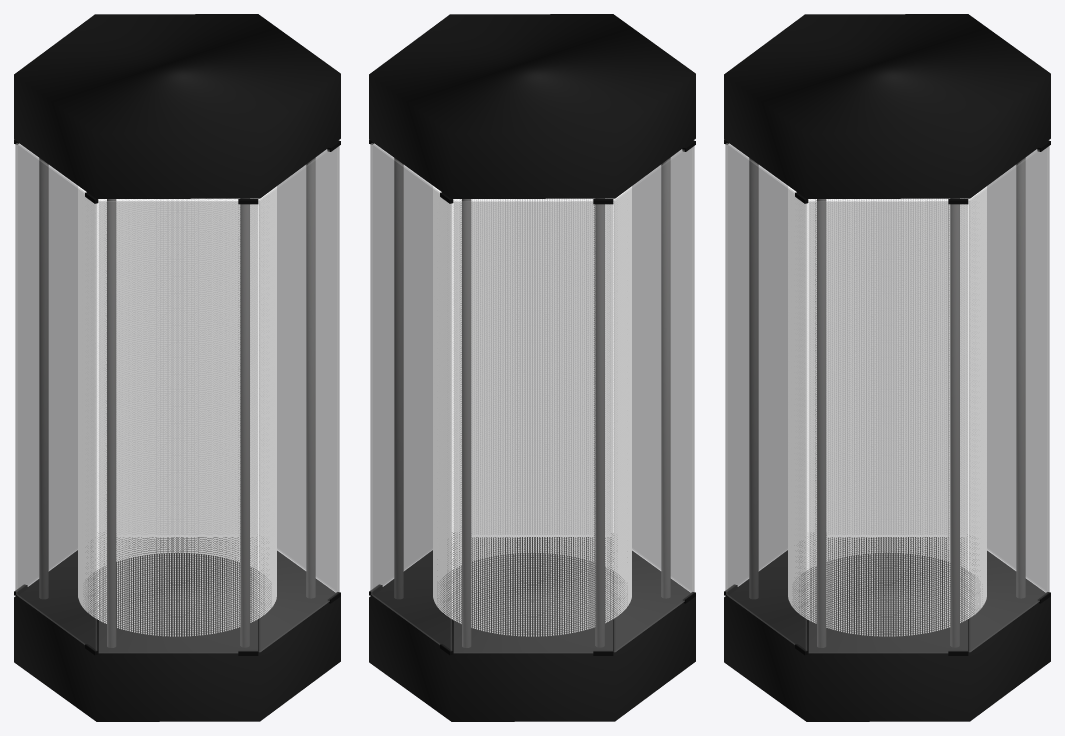
The model's file is hexora-web.glb.
3 views of the same model, side by side, from view 1: azimuth 30°, elevation 25°; view 2: azimuth 150°, elevation 25°; view 3: azimuth 270°, elevation 25° (orthographic).
Parts seen in each view (by area): view 1: BézierCurve, LED_WALL02.011, HEXAGONAL_SWING - Part 1.005, HEXAGONAL_SWING - Part 1.006, LED_WALL02.006, LED_WALL02.010, LED_WALL02.009, LED_WALL02.007, HEXAGONAL_SWING - Part 2.012, HEXAGONAL_SWING - Part 2.007, HEXAGONAL_SWING - Part 2.011, HEXAGONAL_SWING - Part 2.008; view 2: LED_WALL02.009, BézierCurve, HEXAGONAL_SWING - Part 1.005, HEXAGONAL_SWING - Part 1.006, LED_WALL02.010, LED_WALL02.008, LED_WALL02.007, LED_WALL02.011, LED_WALL02.006, HEXAGONAL_SWING - Part 2.010, HEXAGONAL_SWING - Part 2.011, HEXAGONAL_SWING - Part 2.009 (+1 smaller); view 3: LED_WALL02.007, BézierCurve, HEXAGONAL_SWING - Part 1.005, HEXAGONAL_SWING - Part 1.006, LED_WALL02.008, LED_WALL02.006, LED_WALL02.011, LED_WALL02.009, LED_WALL02.010, HEXAGONAL_SWING - Part 2.008, HEXAGONAL_SWING - Part 2.009, HEXAGONAL_SWING - Part 2.007 (+1 smaller).
Part boxes in pixels (x1,y1,x2,y2): BézierCurve: [78, 186, 276, 636]; LED_WALL02.011: [99, 201, 257, 652]; HEXAGONAL_SWING - Part 1.005: [14, 14, 340, 198]; HEXAGONAL_SWING - Part 1.006: [14, 537, 340, 721]; LED_WALL02.006: [259, 146, 339, 651]; LED_WALL02.010: [16, 143, 96, 650]; LED_WALL02.009: [15, 143, 77, 591]; LED_WALL02.007: [277, 147, 338, 591]; HEXAGONAL_SWING - Part 2.012: [107, 199, 116, 647]; HEXAGONAL_SWING - Part 2.007: [240, 198, 249, 647]; HEXAGONAL_SWING - Part 2.011: [39, 158, 48, 599]; HEXAGONAL_SWING - Part 2.008: [306, 157, 315, 598]; LED_WALL02.009: [454, 201, 612, 652]; BézierCurve: [433, 186, 631, 636]; HEXAGONAL_SWING - Part 1.005: [369, 14, 695, 198]; HEXAGONAL_SWING - Part 1.006: [369, 537, 695, 721]; LED_WALL02.010: [614, 146, 694, 651]; LED_WALL02.008: [371, 143, 451, 650]; LED_WALL02.007: [370, 143, 432, 591]; LED_WALL02.011: [632, 147, 693, 591]; LED_WALL02.006: [453, 199, 592, 534]; HEXAGONAL_SWING - Part 2.010: [462, 199, 471, 647]; HEXAGONAL_SWING - Part 2.011: [595, 198, 604, 647]; HEXAGONAL_SWING - Part 2.009: [394, 158, 403, 599]; LED_WALL02.007: [809, 201, 967, 652]; BézierCurve: [788, 186, 986, 636]; HEXAGONAL_SWING - Part 1.005: [724, 14, 1050, 198]; HEXAGONAL_SWING - Part 1.006: [724, 537, 1050, 721]; LED_WALL02.008: [969, 146, 1049, 651]; LED_WALL02.006: [726, 143, 806, 650]; LED_WALL02.011: [725, 143, 787, 591]; LED_WALL02.009: [987, 147, 1048, 591]; LED_WALL02.010: [828, 199, 946, 534]; HEXAGONAL_SWING - Part 2.008: [817, 199, 826, 647]; HEXAGONAL_SWING - Part 2.009: [950, 198, 959, 647]; HEXAGONAL_SWING - Part 2.007: [749, 158, 758, 599].
Size of the model in its own units: 1.43 by 3.26 by 1.64.
5 materials, 1 textured.
